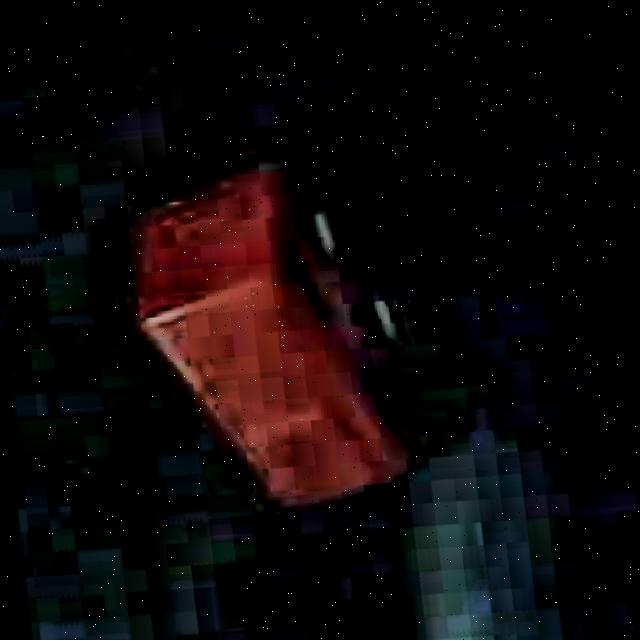bus: (100, 131, 432, 554)
